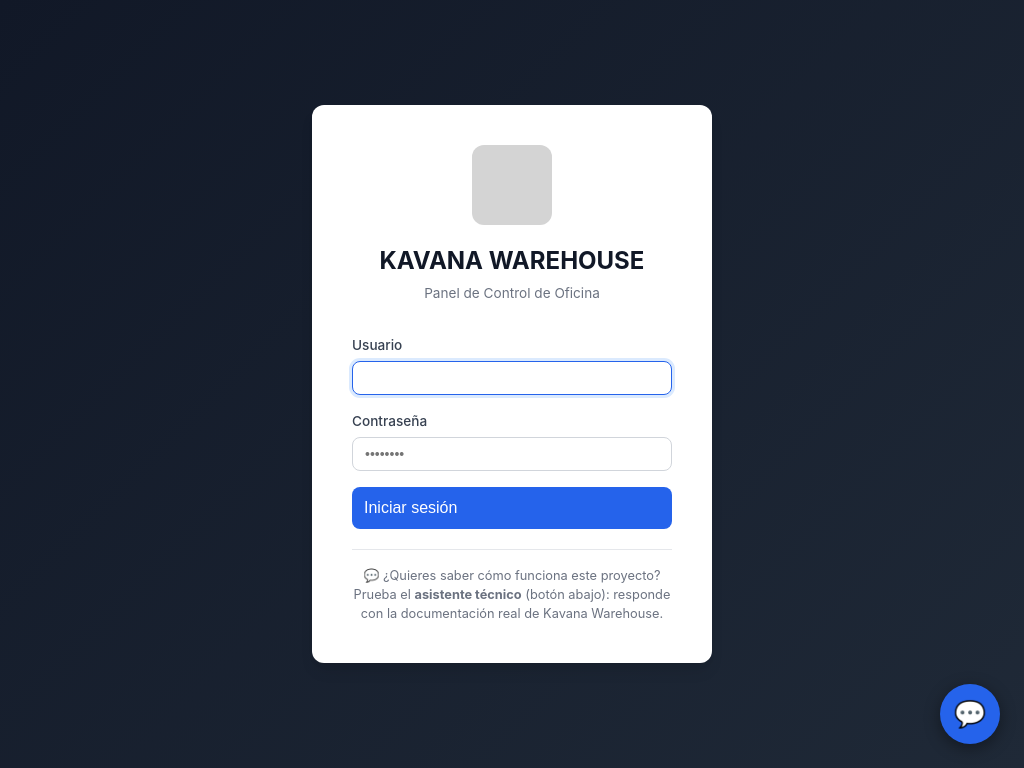
Test case: Login › rechaza el rol operario aunque el login sea correcto
Type "operario1" into the field labelled "Usuario" at (512, 378), box [352,361,672,395]
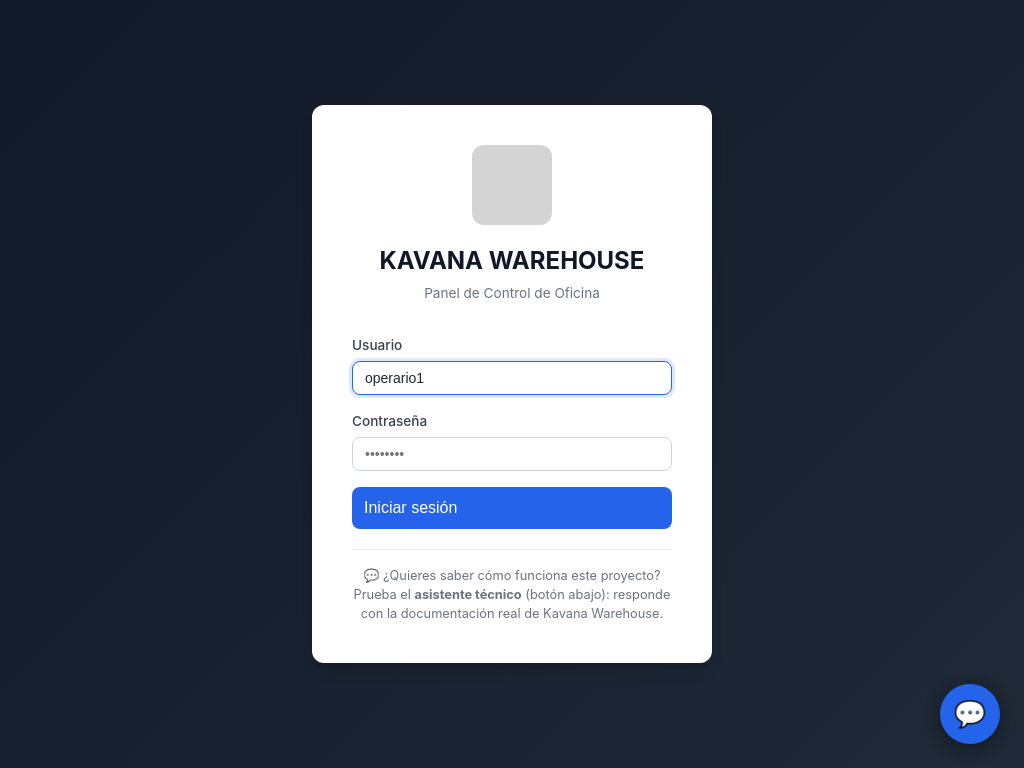
Type "kavana" into the password field labelled "Contraseña" at (512, 454), box [352,437,672,471]
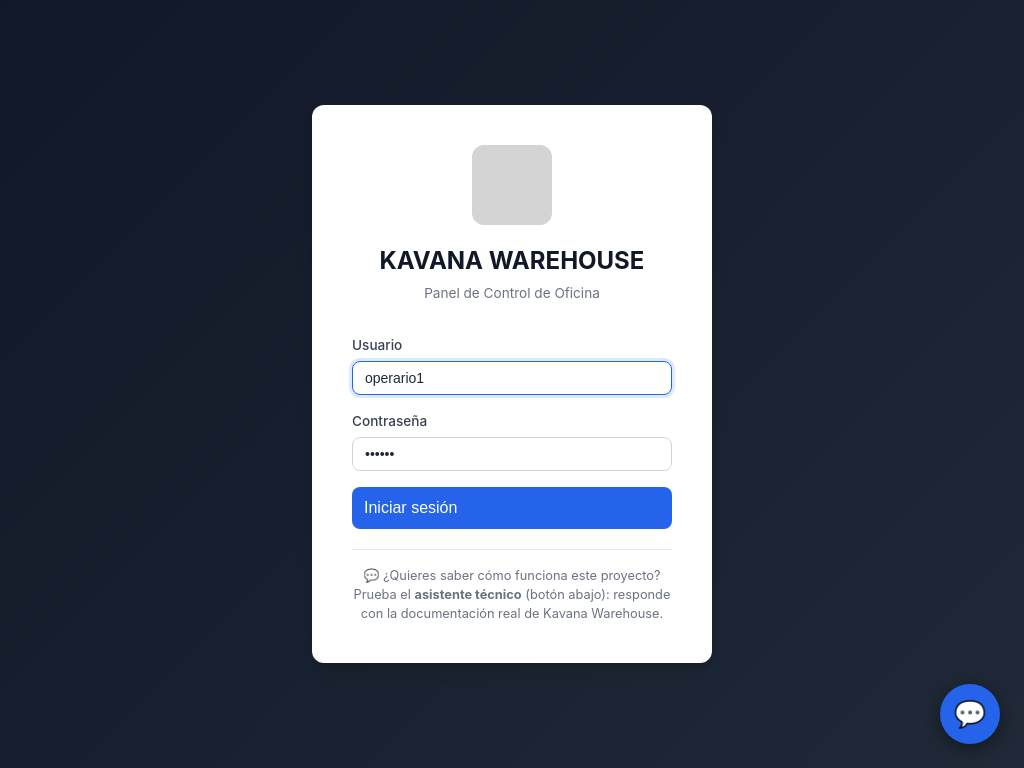
Click the button "Iniciar sesión" at (411, 507), box [352,487,672,529]
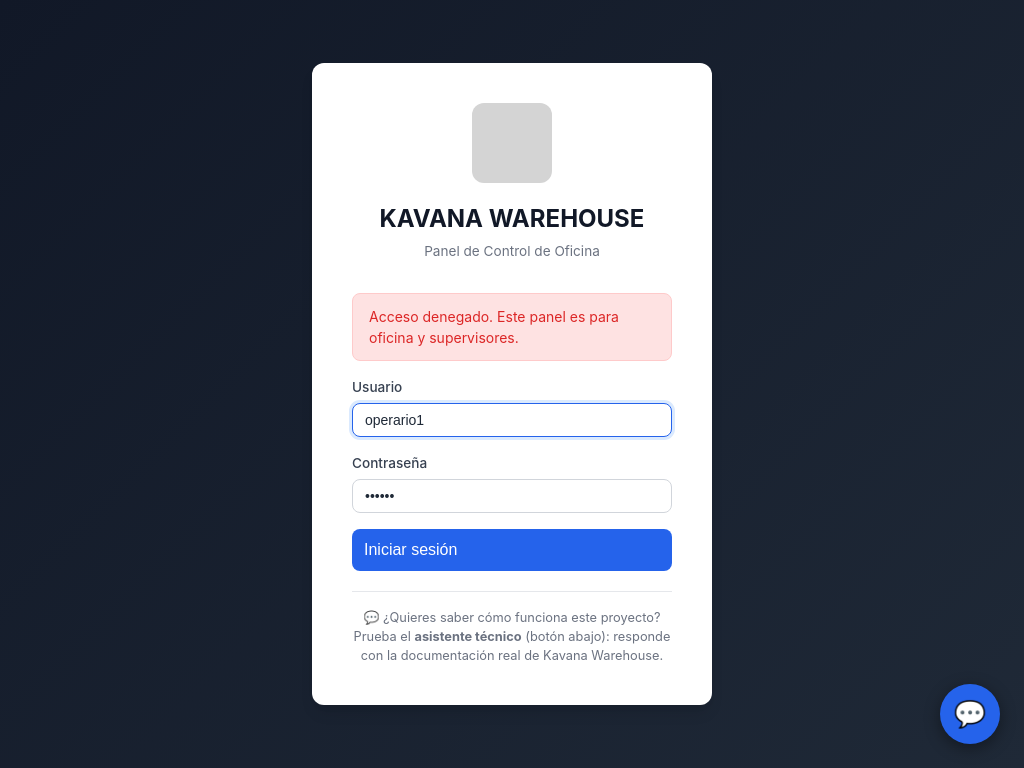
Expected: the text "Acceso denegado. Este panel es para oficina y supervisores." is shown, [352,293,672,361]
